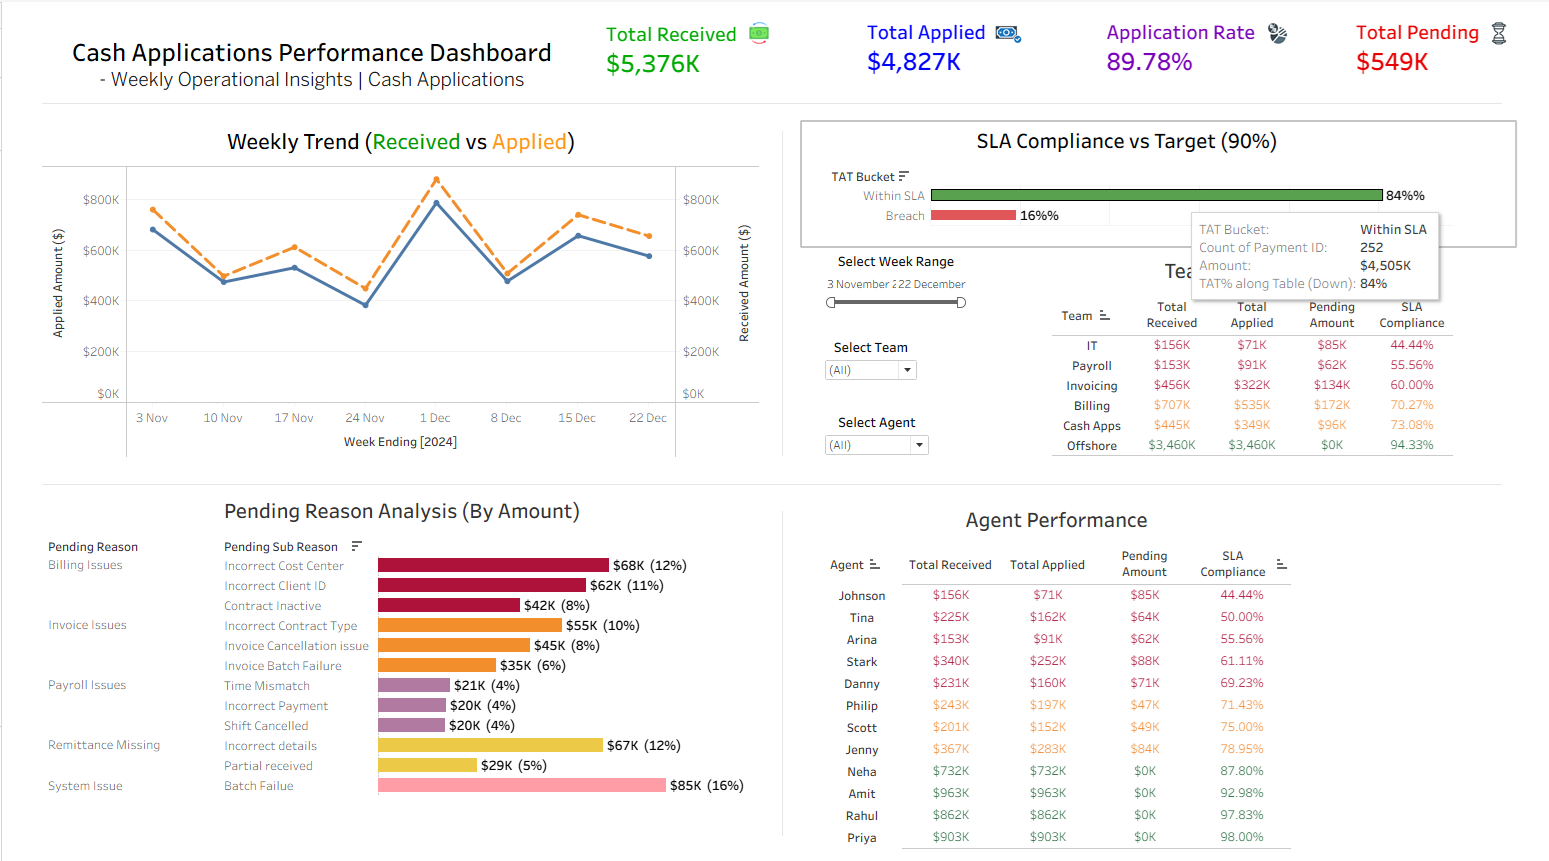

The page's visual inventory and layout, read from the dashboard file:
{"tool":"tableau","page":{"name":"Dashboard 1","canvas":[1000,1000],"units":"permille","ordinal":0},"visuals":[{"type":"image","param":"Image/Image- Total Applied.jpeg","box":[638.1,15.1,19.4,46.5]},{"type":"image","param":"Image/Image-Total Received.jpeg","box":[478.7,16.3,19.4,34.9]},{"type":"text","box":[25.8,18.6,348.4,104.7]},{"type":"worksheet","title":"Total Received","mark":"Text","box":[387.1,18.6,135.5,104.7]},{"type":"worksheet","title":"Total Applied","mark":"Automatic","box":[555.5,18.6,135.5,104.7]},{"type":"worksheet","title":"Application Rate","mark":"Automatic","box":[709.7,18.6,135.5,104.7]},{"type":"image","param":"Image/Image- Application rate.jpeg","box":[812.9,18.6,19.4,34.9]},{"type":"image","param":"Image/Image-Total Pending.jpeg","box":[958.1,20.9,19.4,29.1]},{"type":"blank","box":[25.8,117.4,941.9,1.2]},{"type":"worksheet","title":"Weekly Trend","mark":"Line","rows":["Calculation_1283464877477888","Calculation_1283464880144386"],"cols":["Week_Ending (Dim_Date.csv)"],"box":[25.8,139.5,463.2,390.7]},{"type":"worksheet","title":"SLA Compliance ","mark":"Automatic","rows":["TAT_Bucket"],"cols":["Payment_ID"],"box":[516.1,139.5,460,144.2]},{"type":"blank","box":[503.2,150,0.7,377.9]},{"type":"filter","title":"Weekly Trend","param":"[federated.0hyamtn0j61uck1a8xni10q1xgcz].[twk:Week_Ending (Dim_Date.csv):qk]","box":[529,290.7,95.5,97.7]},{"type":"worksheet","title":"Team Performance","mark":"Text","rows":["Team"],"box":[677.4,290.7,271,261.6]},{"type":"filter","title":"Weekly Trend","param":"[federated.0hyamtn0j61uck1a8xni10q1xgcz].[none:Team:nk]","box":[529,390.7,63.2,64]},{"type":"filter","title":"Team Performance","param":"[federated.0hyamtn0j61uck1a8xni10q1xgcz].[none:Agent:nk]","box":[529,477.9,71,80.2]},{"type":"blank","box":[25.8,560.5,941.9,1.2]},{"type":"worksheet","title":"Pending Analysis","mark":"Bar","rows":["Pending_Reason","Pending_Sub Reason"],"cols":["Amount"],"box":[25.8,569.8,464.5,407]},{"type":"worksheet","title":"Agent Performance","mark":"Text","rows":["Agent"],"box":[529,580.2,327.1,407]},{"type":"blank","box":[503.2,591.9,0.7,377.9]}]}

Visuals, with their boxes on the dashboard's canvas, which has no fixed pixel size, in thousandths of its width and height (x1, y1, x2, y2). These are canvas units, not pixel positions in the 1549x861 screenshot, which may show the page scaled, cropped or inside an application window:
image: [left=638, top=15, right=658, bottom=62]
image: [left=479, top=16, right=498, bottom=51]
text: [left=26, top=19, right=374, bottom=123]
"Total Received" worksheet (Text marks): [left=387, top=19, right=523, bottom=123]
"Total Applied" worksheet: [left=556, top=19, right=691, bottom=123]
"Application Rate" worksheet: [left=710, top=19, right=845, bottom=123]
image: [left=813, top=19, right=832, bottom=54]
image: [left=958, top=21, right=978, bottom=50]
blank: [left=26, top=117, right=968, bottom=119]
"Weekly Trend" worksheet (Line marks): [left=26, top=140, right=489, bottom=530]
"SLA Compliance " worksheet: [left=516, top=140, right=976, bottom=284]
blank: [left=503, top=150, right=504, bottom=528]
"Weekly Trend" filter: [left=529, top=291, right=624, bottom=388]
"Team Performance" worksheet (Text marks): [left=677, top=291, right=948, bottom=552]
"Weekly Trend" filter: [left=529, top=391, right=592, bottom=455]
"Team Performance" filter: [left=529, top=478, right=600, bottom=558]
blank: [left=26, top=560, right=968, bottom=562]
"Pending Analysis" worksheet (Bar marks): [left=26, top=570, right=490, bottom=977]
"Agent Performance" worksheet (Text marks): [left=529, top=580, right=856, bottom=987]
blank: [left=503, top=592, right=504, bottom=970]
